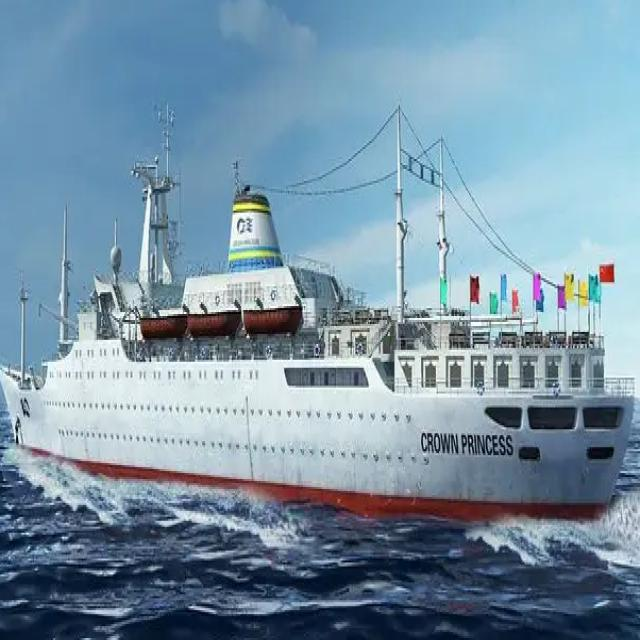navalvessels: (0, 101, 636, 533)
